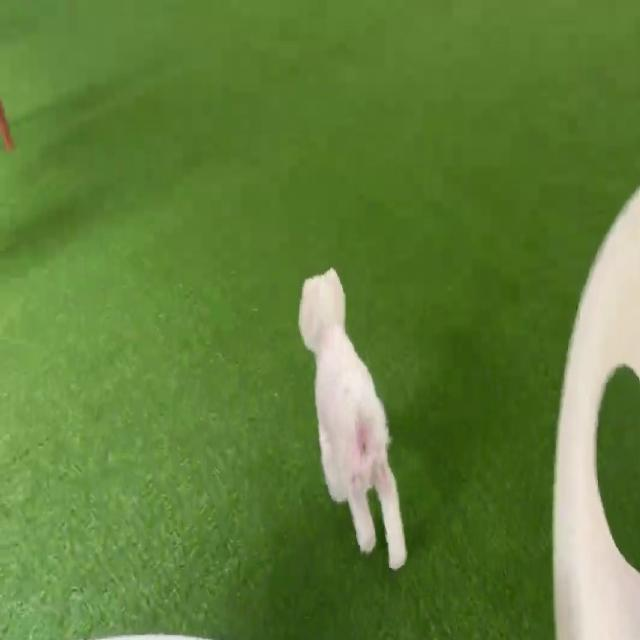Dog: (299, 268, 407, 570)
